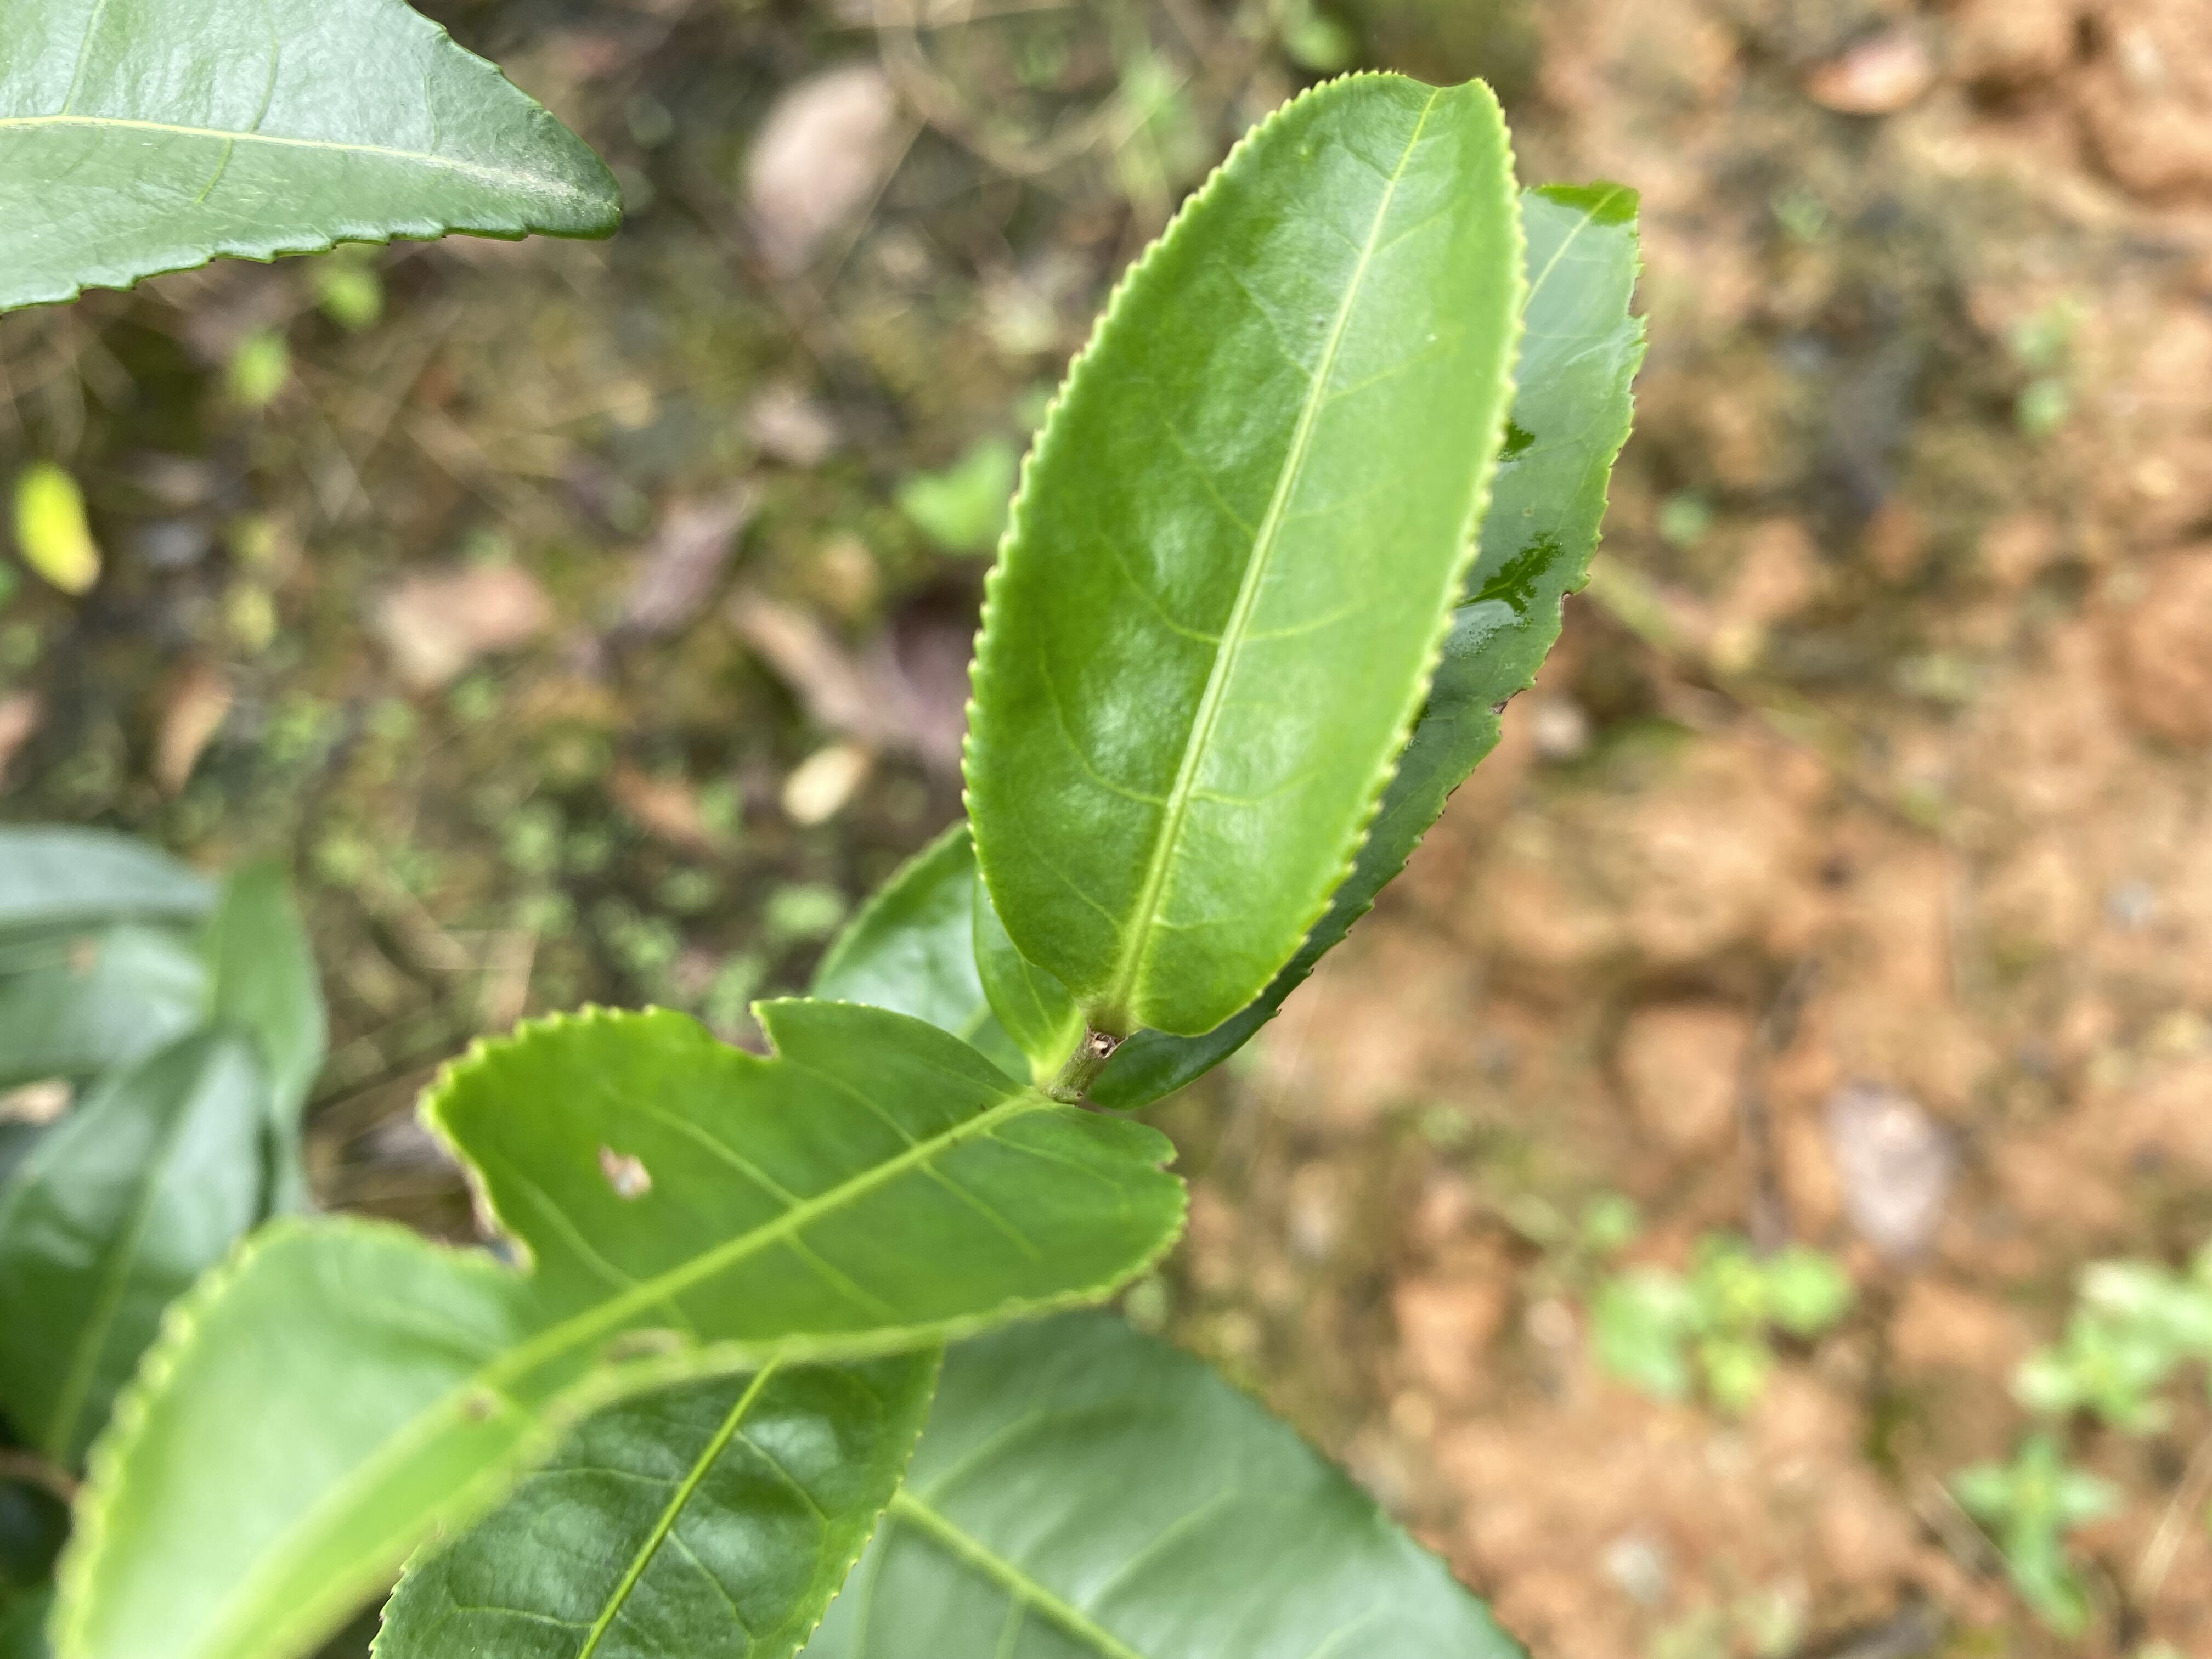chihuo_high: (44, 997, 1195, 1656)
healthy: (961, 66, 1531, 1044), (3, 3, 627, 324)
